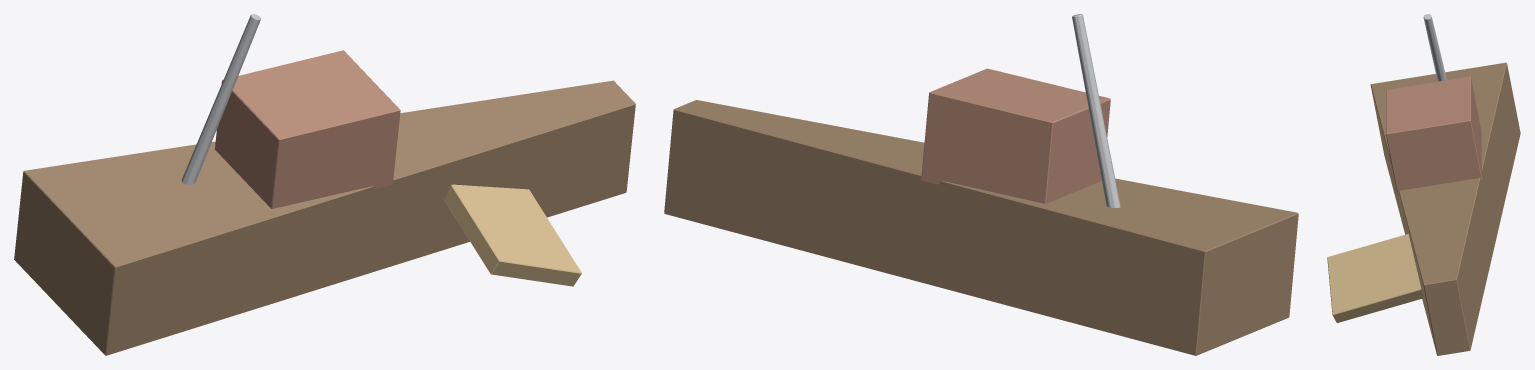
The picture shows the model from 3 angles, left to right: view 1: azimuth 30°, elevation 25°; view 2: azimuth 150°, elevation 25°; view 3: azimuth 270°, elevation 25°; orthographic projection. The views are drawn at different scales.
Visible parts, largest first — view 1: 船体, 舱室, 残片, 桅杆; view 2: 船体, 舱室, 桅杆; view 3: 船体, 舱室, 残片, 桅杆.
Boxes of the visible parts, left/top/right/bottom form: 船体: left=14, top=80, right=635, bottom=355; 舱室: left=215, top=50, right=400, bottom=208; 残片: left=444, top=184, right=581, bottom=286; 桅杆: left=181, top=14, right=260, bottom=184; 船体: left=664, top=100, right=1298, bottom=355; 舱室: left=921, top=68, right=1110, bottom=203; 桅杆: left=1072, top=14, right=1120, bottom=207; 船体: left=1370, top=62, right=1520, bottom=355; 舱室: left=1386, top=76, right=1482, bottom=193; 残片: left=1327, top=234, right=1422, bottom=322; 桅杆: left=1423, top=14, right=1446, bottom=81.
Size of the model in its own units: 1550 by 770 by 627.
